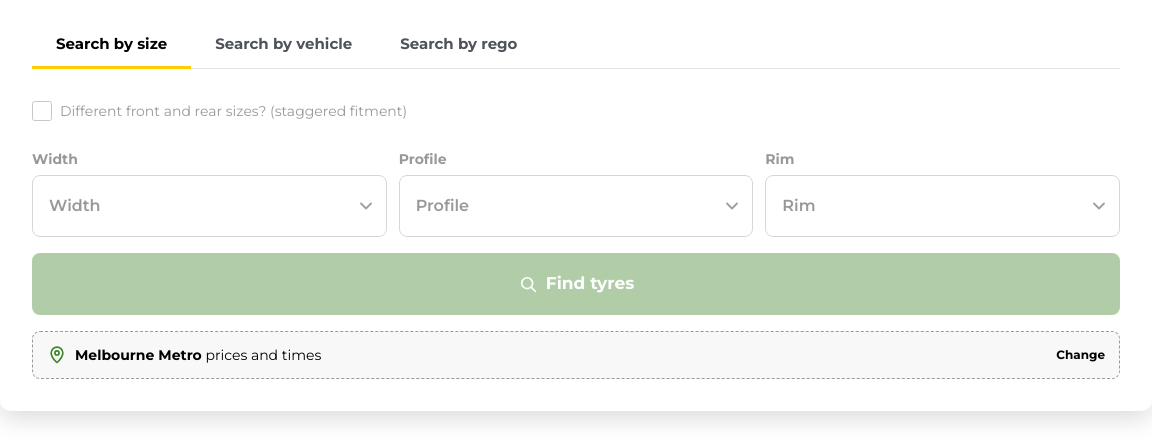
Test: Rego tab › with the stub adapter says search is not available yet (no fake result)
This screenshot has width=1152, height=442.
Click the tab "Search by rego": x=459, y=45 x1=376 y1=21 x2=542 y2=69
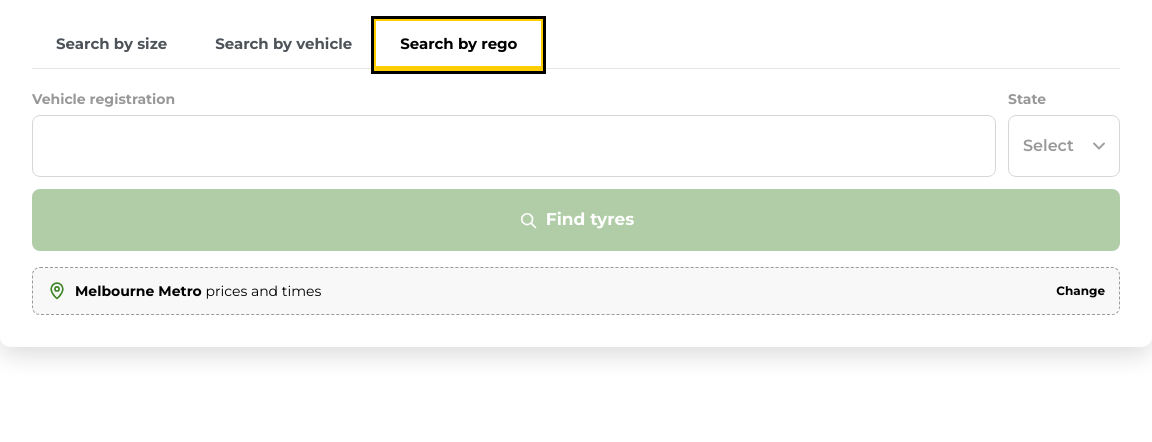
In the field labelled "Vehicle registration": x=514, y=146 x1=32 y1=115 x2=996 y2=177, type "ABC123"
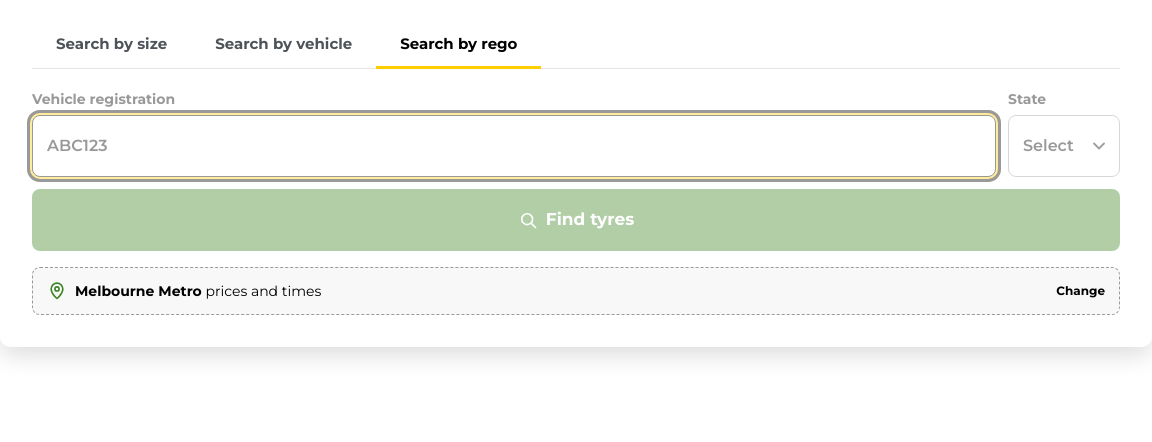
Select "QLD" in the dropdown labelled "State": x=1064, y=146 x1=1008 y1=115 x2=1120 y2=177
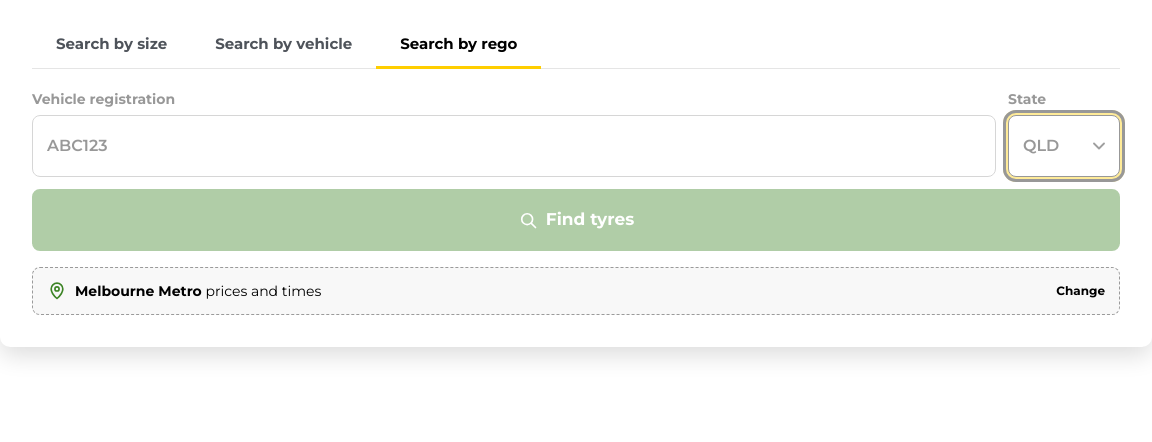
Click the button "Find tyres": x=576, y=220 x1=32 y1=189 x2=1120 y2=251
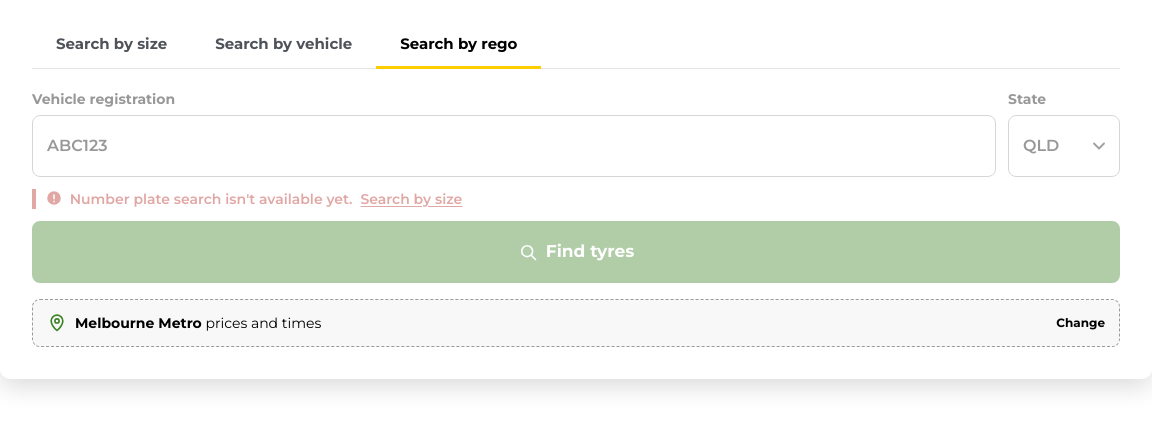
Check: the message shows "available yet", box x1=70 y1=190 x2=353 y2=208
